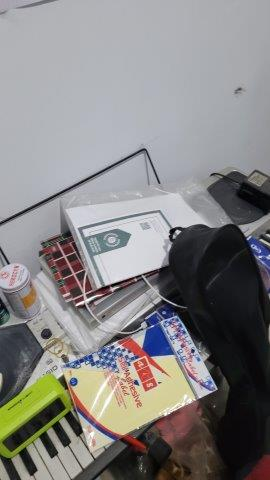kertas: (63, 201, 173, 278)
